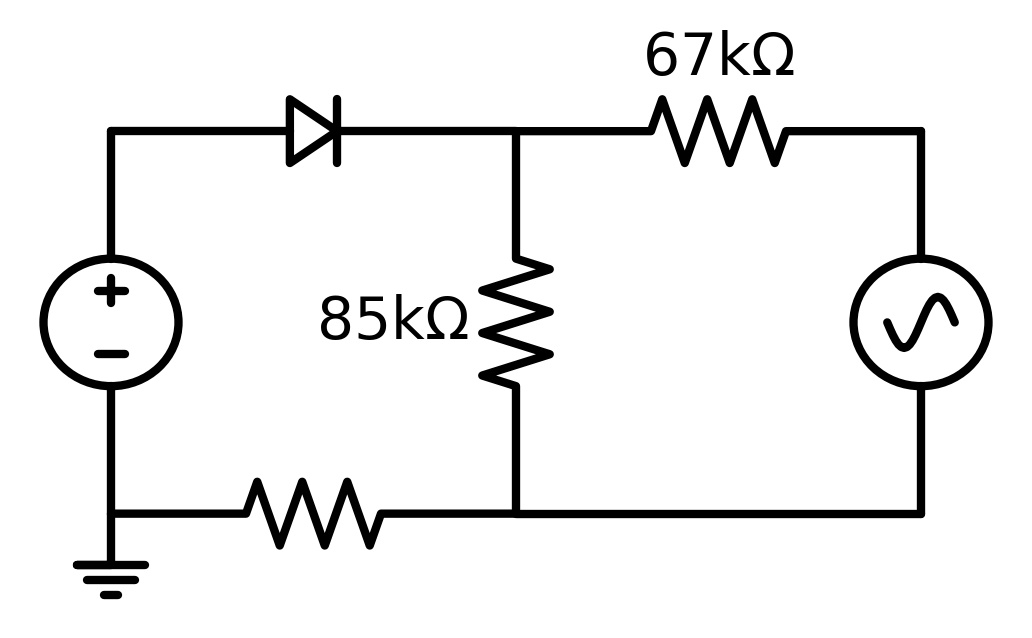diode: (275, 88, 355, 176)
ground: (70, 550, 151, 604)
resistor: (472, 241, 564, 403), (228, 471, 395, 560), (637, 88, 790, 174)
sourceac: (844, 253, 997, 394)
sourcedc: (36, 249, 194, 407)
